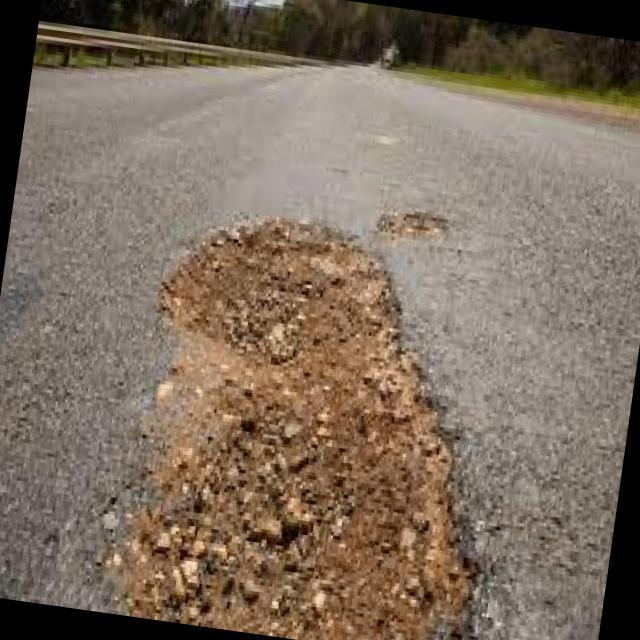Pothole: (100, 216, 481, 640), (104, 216, 478, 640)
